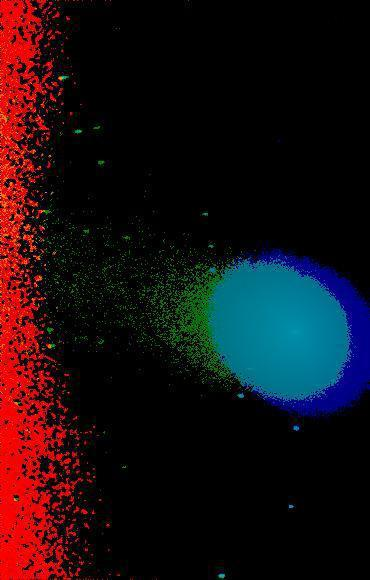star: (29, 387, 59, 417)
